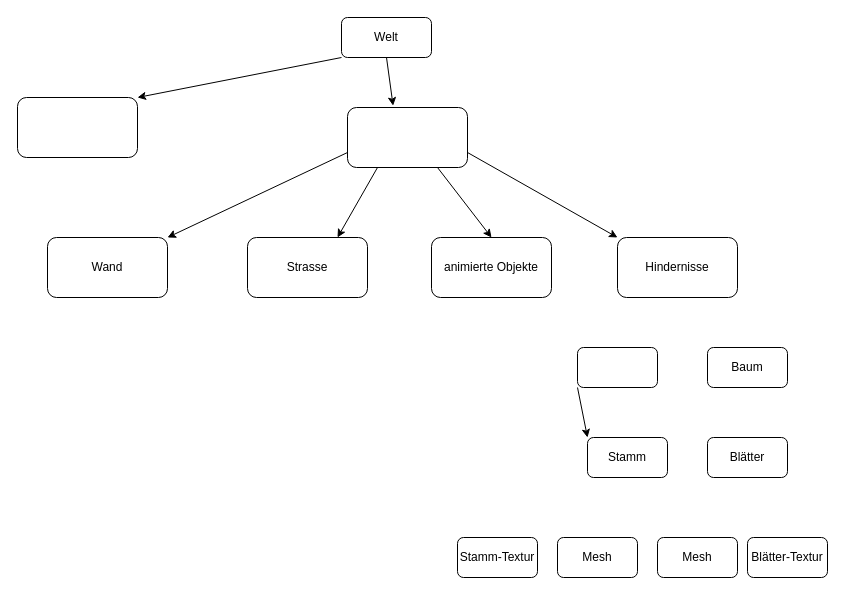
Image size: 845x595. Some labels were removed from this diagram. The centre of each missing label's shape, as x and y in pixels:
Busch: (617,367)
Kamera: (77,127)
Schlucht: (407,137)
